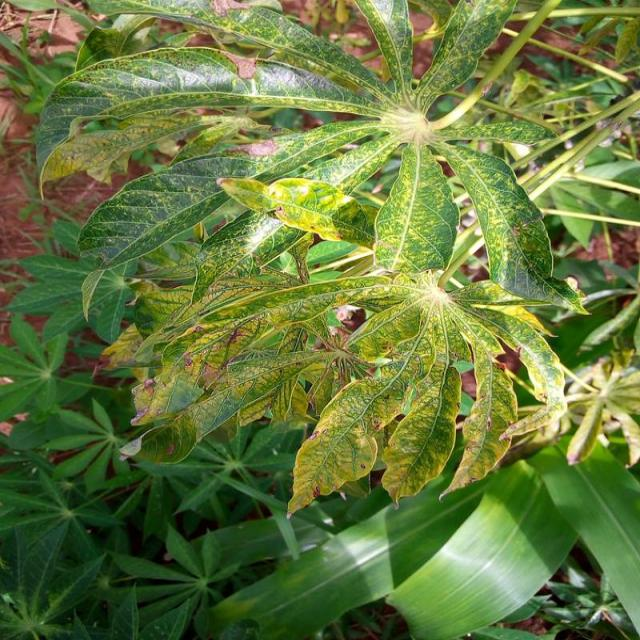cassava leaf: (35, 0, 589, 519)
